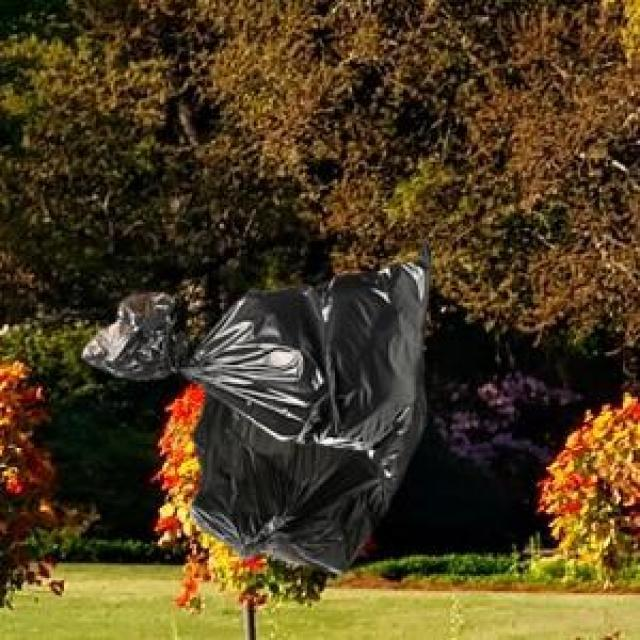miscellaneous trash: (79, 237, 427, 482), (188, 348, 422, 568)
